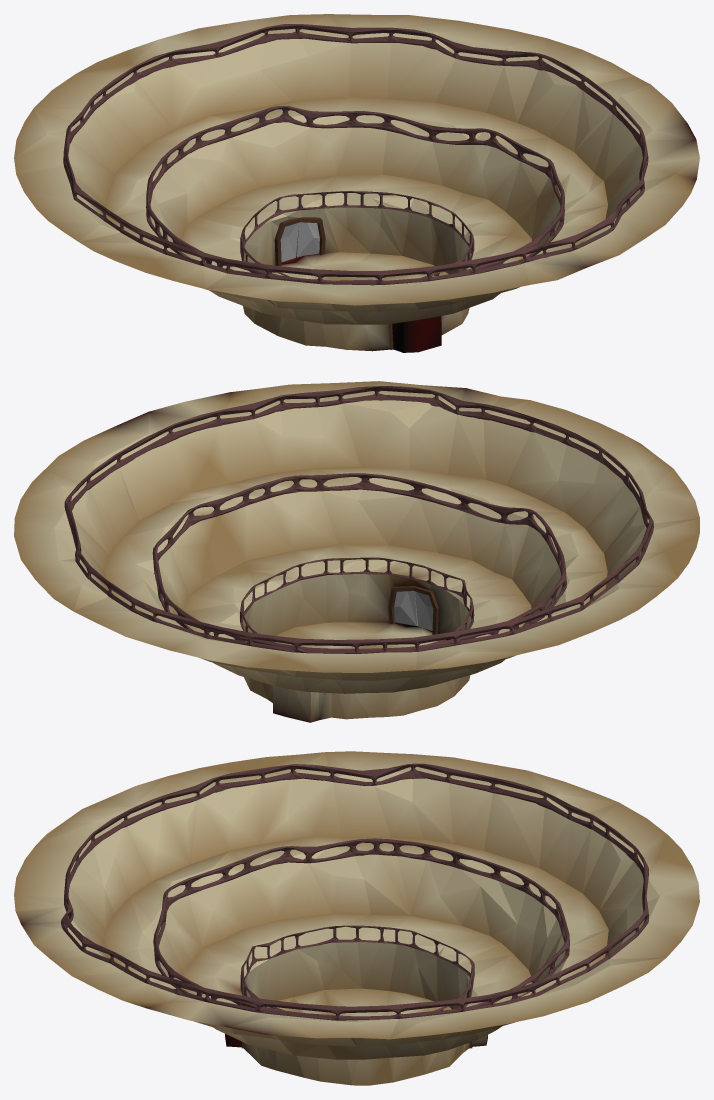
Rendered from Arena.glb.
The picture shows the model from 3 angles, top to bottom: view 1: azimuth 30°, elevation 25°; view 2: azimuth 150°, elevation 25°; view 3: azimuth 270°, elevation 25°; orthographic projection.
Parts seen in each view (by area): view 1: Cylinder, Fence_03, Fence_02, Fence_01, Cylinder.001; view 2: Cylinder, Fence_03, Fence_02, Fence_01, Cylinder.001; view 3: Cylinder, Fence_03, Fence_02, Fence_01.
Part boxes in pixels (bbox=[...]): Cylinder: bbox=[14, 14, 699, 352]; Fence_03: bbox=[63, 24, 648, 285]; Fence_02: bbox=[146, 106, 564, 280]; Fence_01: bbox=[240, 191, 474, 277]; Cylinder.001: bbox=[274, 217, 393, 349]; Cylinder: bbox=[14, 381, 699, 722]; Fence_03: bbox=[64, 386, 653, 653]; Fence_02: bbox=[152, 473, 566, 649]; Fence_01: bbox=[240, 557, 474, 643]; Cylinder.001: bbox=[324, 586, 438, 694]; Cylinder: bbox=[14, 751, 699, 1085]; Fence_03: bbox=[61, 763, 648, 1020]; Fence_02: bbox=[153, 838, 569, 1016]; Fence_01: bbox=[240, 925, 474, 1011].
Bounding box in the file's own units: 81.86 × 20.82 × 82.86.
